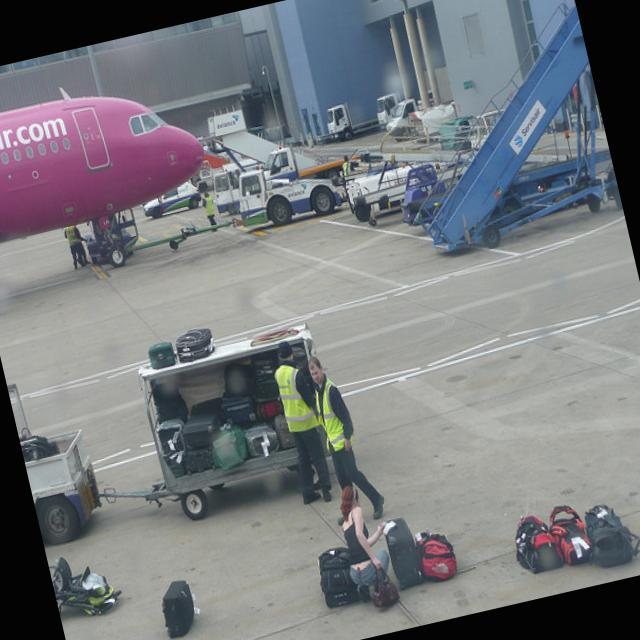Vehicle: (5, 361, 114, 550), (229, 149, 344, 233), (208, 142, 304, 218), (393, 158, 463, 227), (323, 96, 381, 144), (138, 178, 204, 220), (372, 88, 408, 132)
